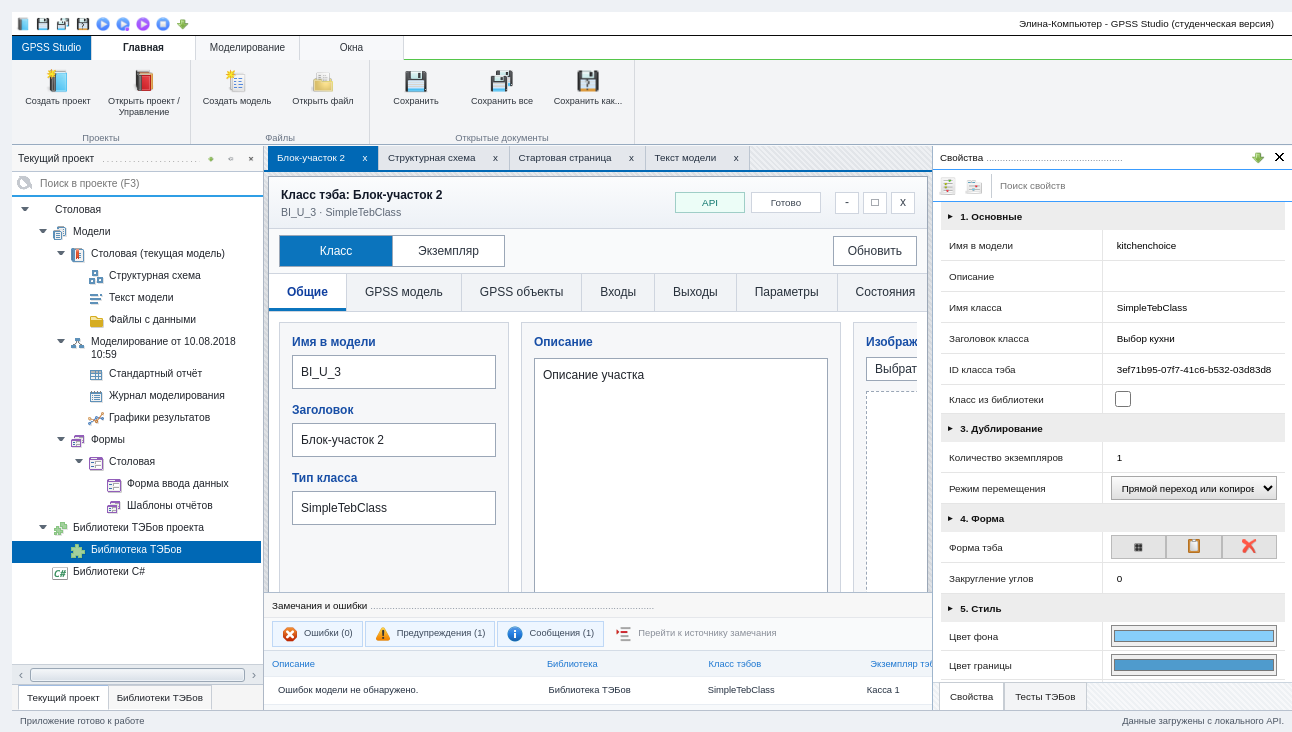
App › loads the TEB, the example model and runs a simulation from the quick access toolbar
Expected: the text "Класс тэба: Блок-участок 2" is shown, top-left (281, 188), bottom-right (442, 202)
Click the button with test id "quick-command-run-sim": (103, 24) top-left (94, 14), bottom-right (112, 32)
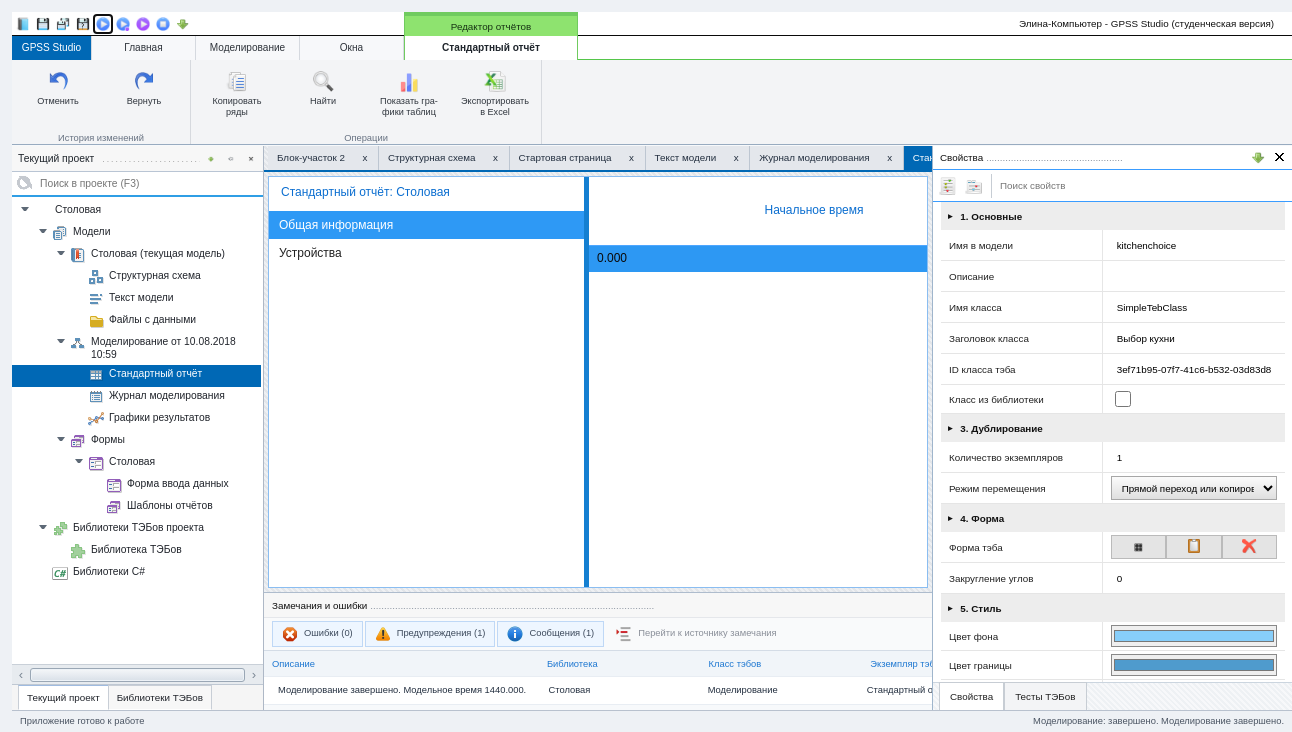
Result: the element named "Общая информация" is shown at top-left (589, 177), bottom-right (927, 587)
Result: the text "Стандартный отчёт: Столовая" is shown at top-left (281, 185), bottom-right (450, 199)
Result: the message shows "Моделирование: завершено. Моделирование завершено." at top-left (12, 710), bottom-right (1291, 731)
